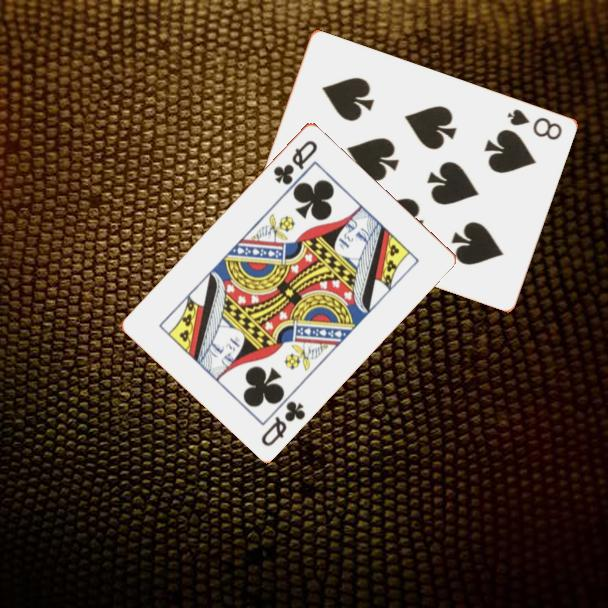c12: (257, 397, 308, 449), (270, 136, 321, 187)
s08: (503, 105, 565, 143)
